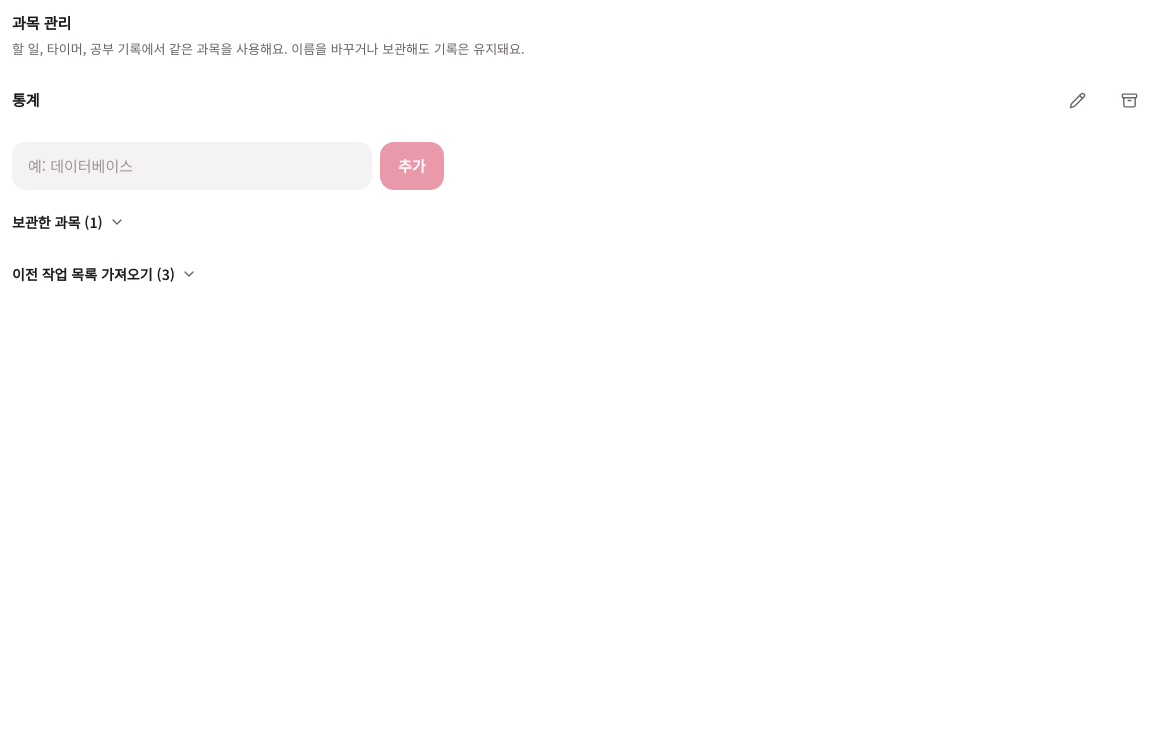
Test: SubjectManager 과목 보관 › links an imported name to an archived subject by restoring it
The width and height of the screenshot is (1164, 732).
Click the heading "이전 작업 목록 가져오기 (3)".
click(104, 274)  # box [12, 264, 197, 284]
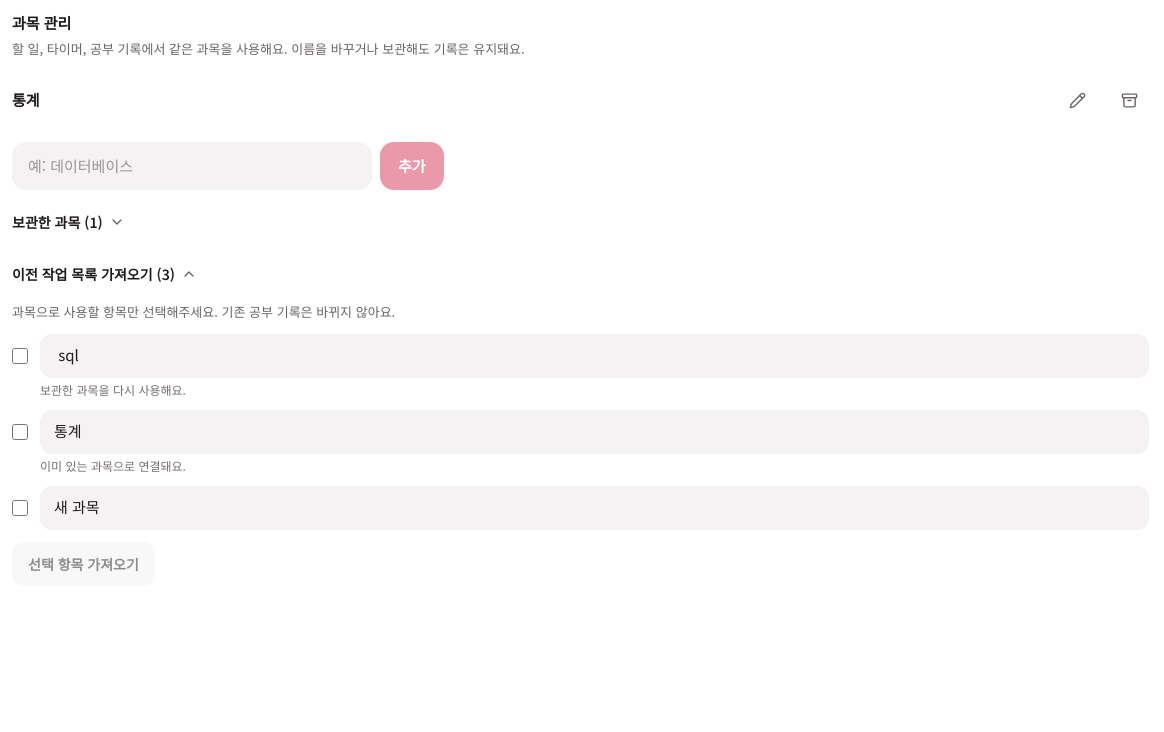
Expected: the text "보관한 과목을 다시 사용해요." is shown once, [40, 380, 186, 398]
Expected: the text "이미 있는 과목으로 연결돼요." is shown once, [40, 456, 186, 474]
Click the checkbox named "이전 항목 1 선택".
click(20, 356)  # box [12, 348, 28, 364]
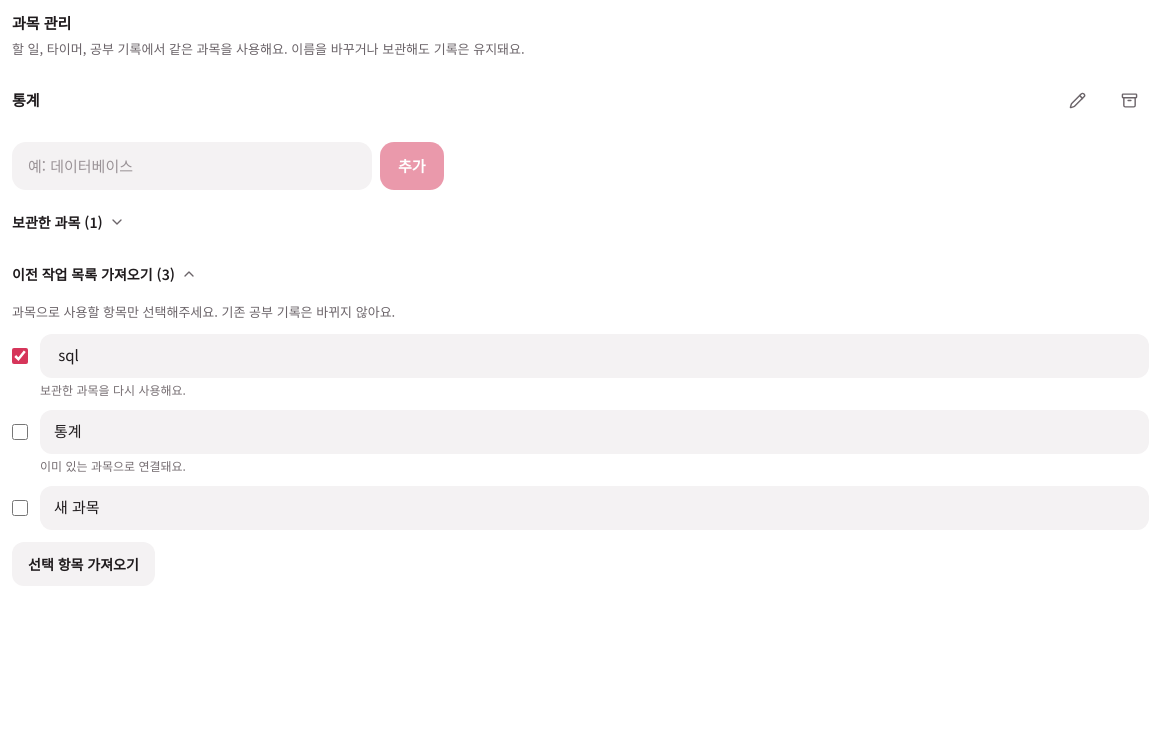
Click the checkbox named "이전 항목 2 선택".
click(20, 432)  # box [12, 424, 28, 440]
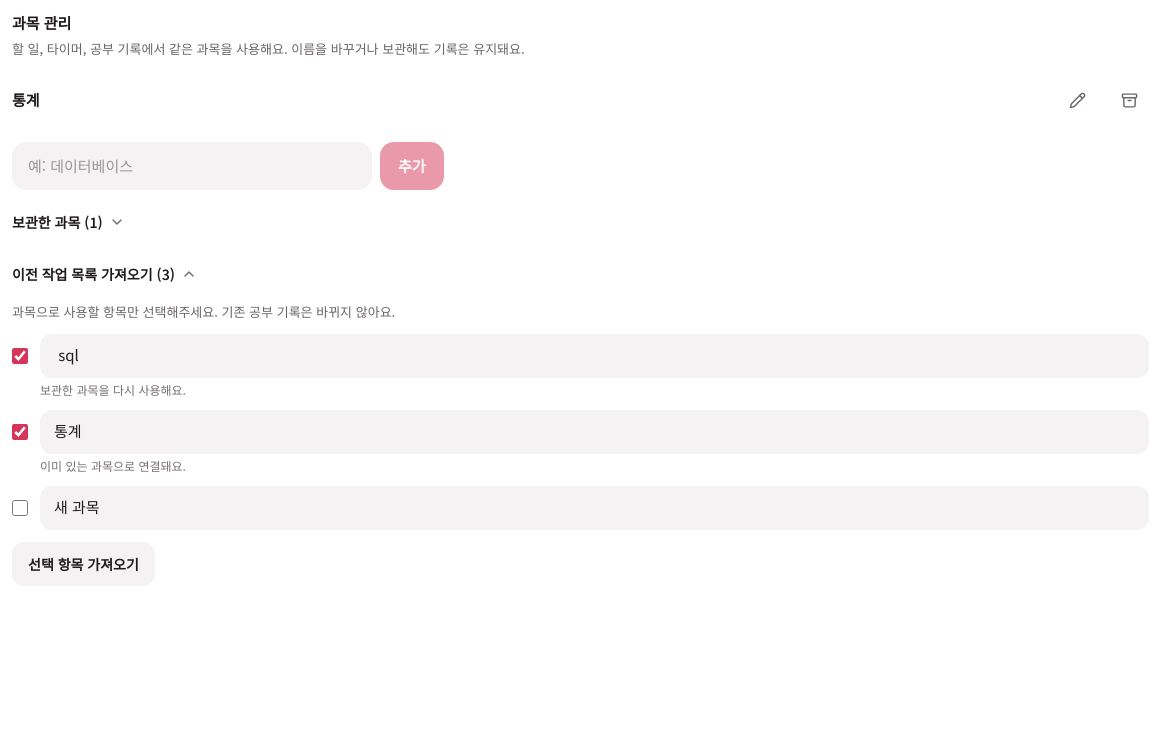
Click the checkbox named "이전 항목 3 선택".
click(20, 508)  # box [12, 500, 28, 516]
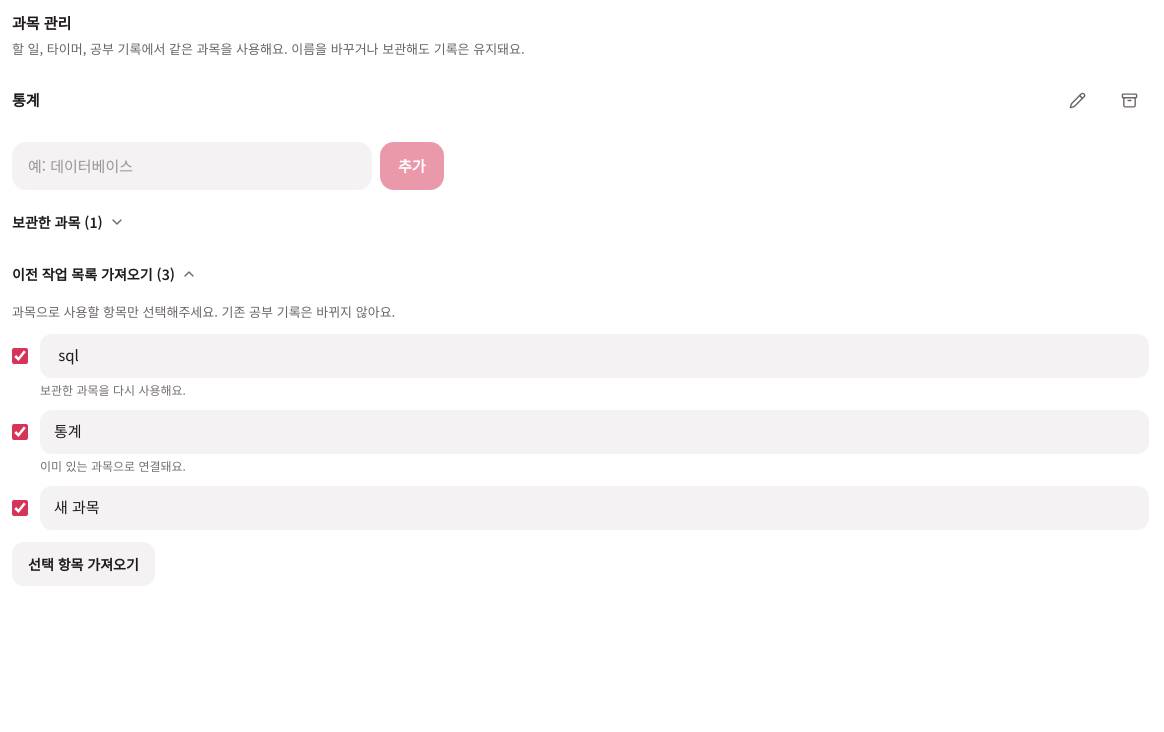
Click the button "선택 항목 가져오기".
click(83, 564)  # box [12, 542, 155, 586]
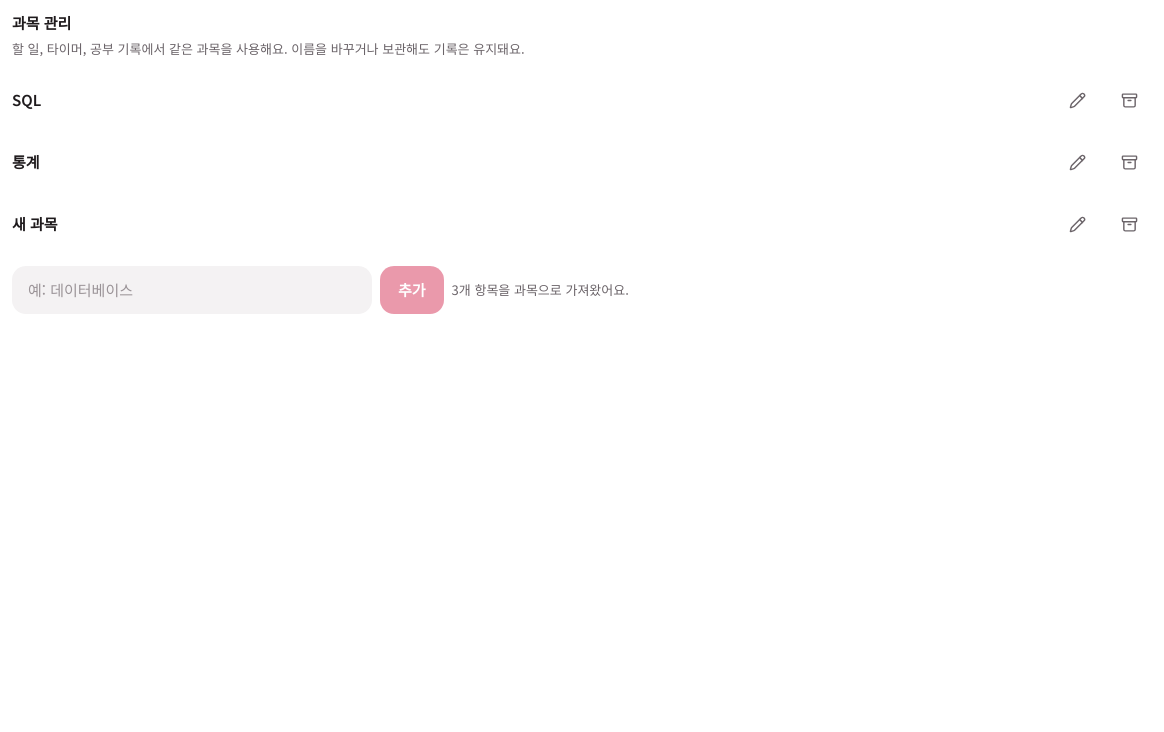
Expected: the message reads "3개 항목을 과목으로 가져왔어요.", [452, 280, 629, 299]
